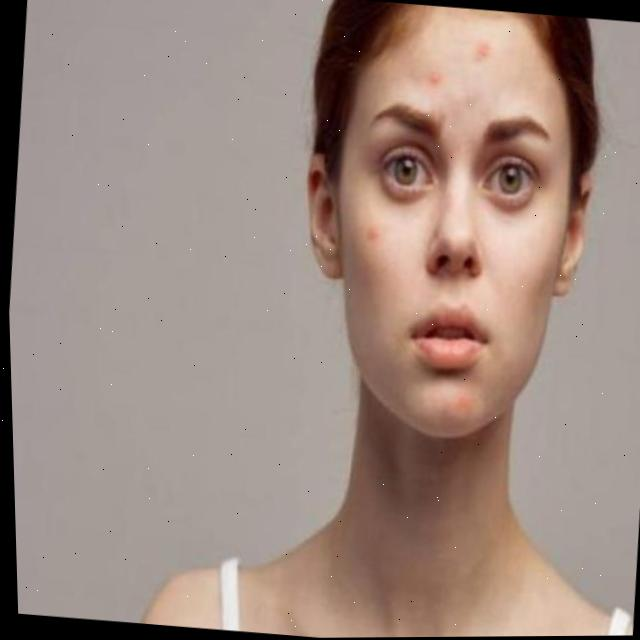Acne: (360, 224, 381, 249), (472, 40, 491, 59), (428, 71, 446, 86)
